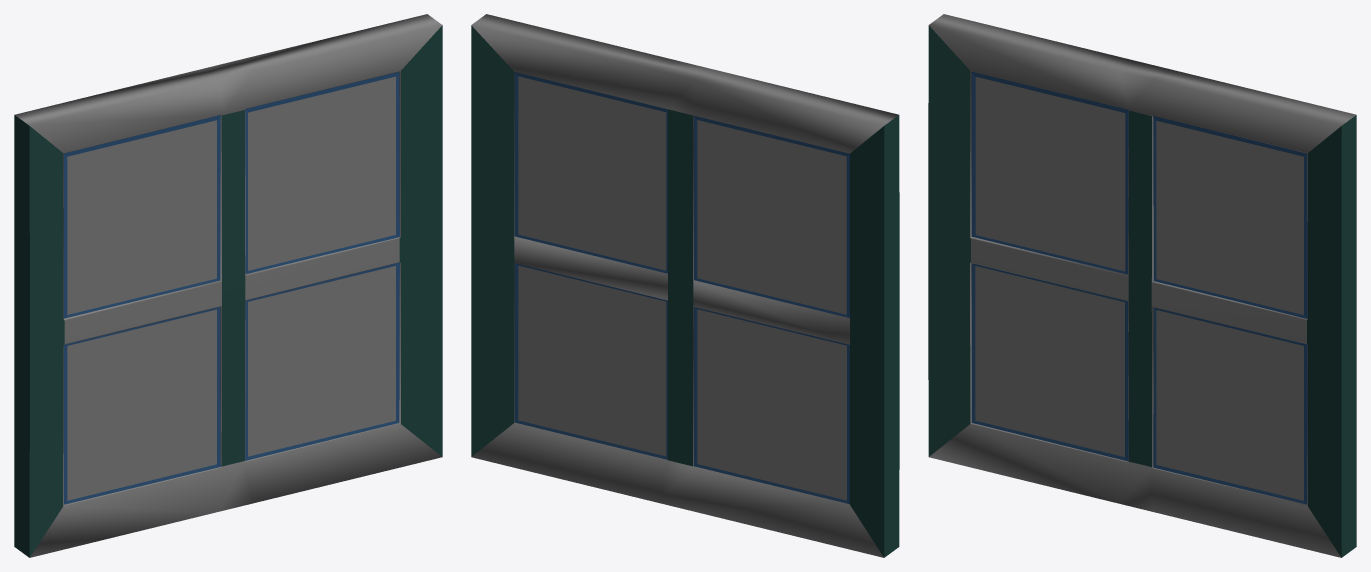
The model's file is window2.fbx.
3 renders of one model, left to right at view 1: azimuth 30°, elevation 25°; view 2: azimuth 150°, elevation 25°; view 3: azimuth 330°, elevation 25°, orthographic.
Parts seen in each view (by area): view 1: pCube9 (×4); view 2: pCube9 (×4); view 3: pCube9 (×4).
Part boxes in pixels (bbox=[...]): pCube9 (×4): bbox=[14, 14, 442, 557]; pCube9 (×4): bbox=[471, 14, 899, 557]; pCube9 (×4): bbox=[928, 14, 1356, 557].
Size of the model in its own units: 2 by 2 by 0.1307.
